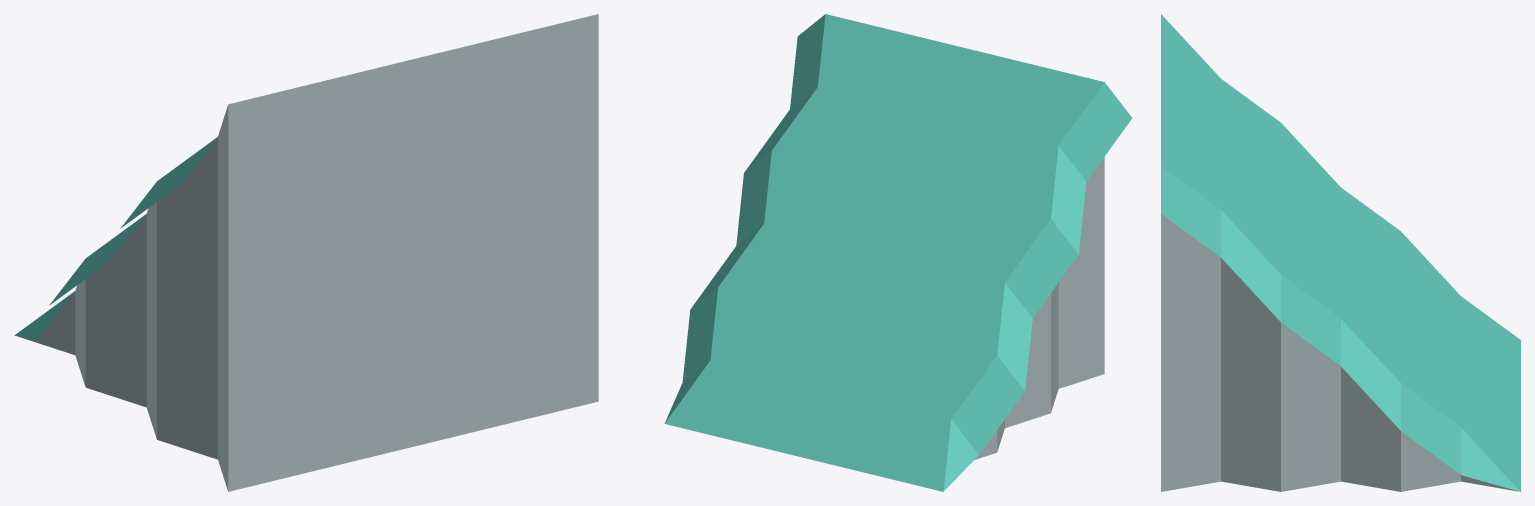
Rendered from cliff_blockSlope_stone.glb.
3 renders of one model, left to right at view 1: azimuth 30°, elevation 25°; view 2: azimuth 150°, elevation 25°; view 3: azimuth 270°, elevation 25°, orthographic. The views are drawn at different scales.
Visible parts, largest first — view 1: cliff_blockSlope_stone; view 2: cliff_blockSlope_stone; view 3: cliff_blockSlope_stone.
Part boxes in pixels (left/top/right/bottom): cliff_blockSlope_stone: left=14, top=14, right=598, bottom=491; cliff_blockSlope_stone: left=664, top=14, right=1132, bottom=491; cliff_blockSlope_stone: left=1161, top=14, right=1520, bottom=491.
Size of the model in its own units: 1.2 by 1 by 1.
